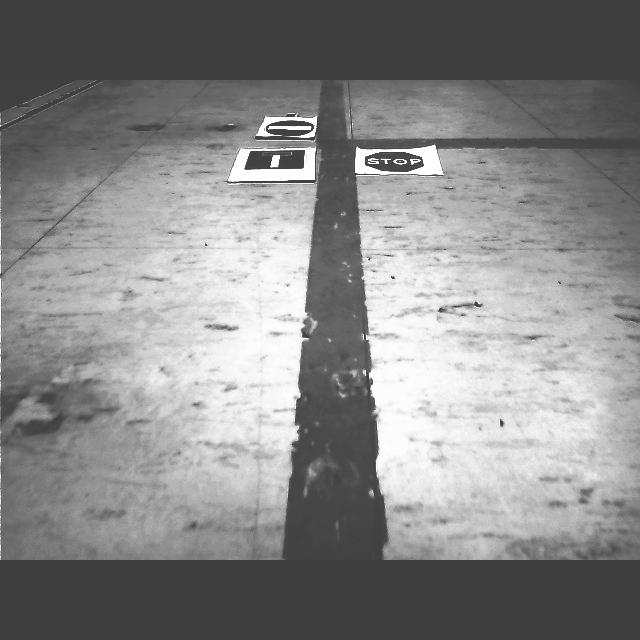DEAD END: (243, 149, 306, 170)
NO ENTRY: (266, 119, 314, 136)
STOP: (364, 151, 424, 172)
